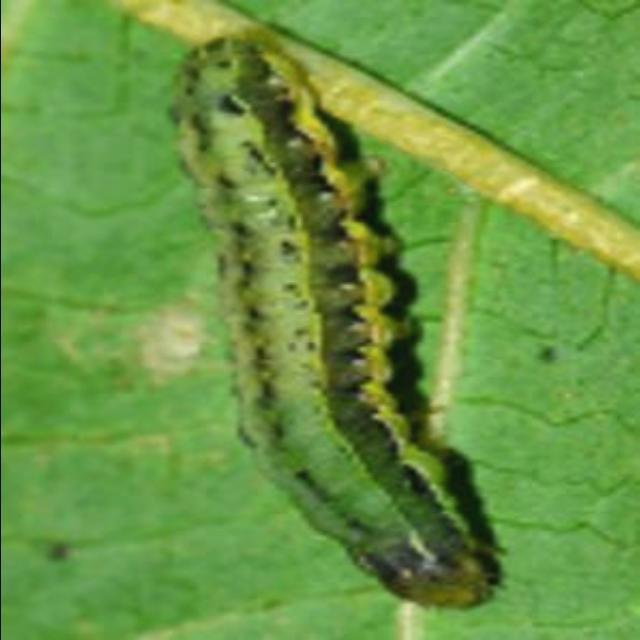Beet armyworm: (118, 21, 548, 636)
